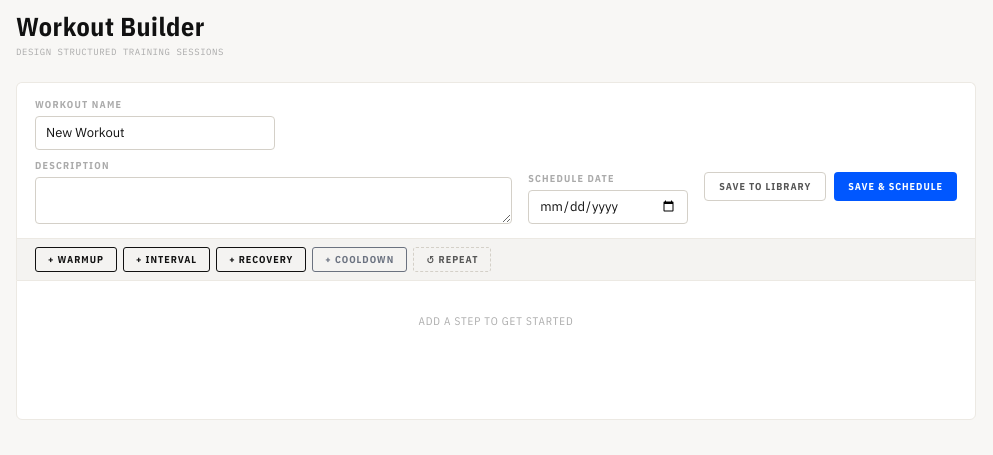
Test: test_delete_step › add warmup then delete → no steps
The image size is (993, 455).
Step 1. Click the button "+ Warmup" → (76,259), box [35,247,117,272]
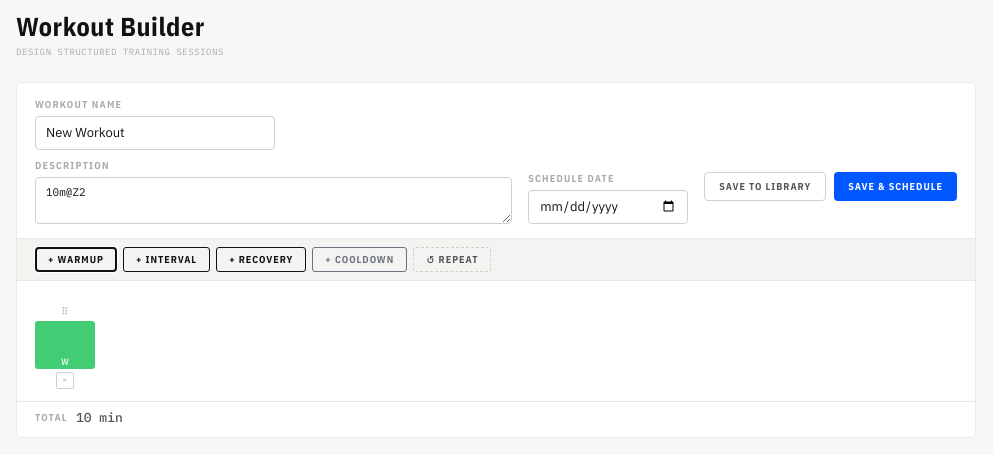
Step 2. Click the button named "delete step" → (65,380), box [56,372,74,389]
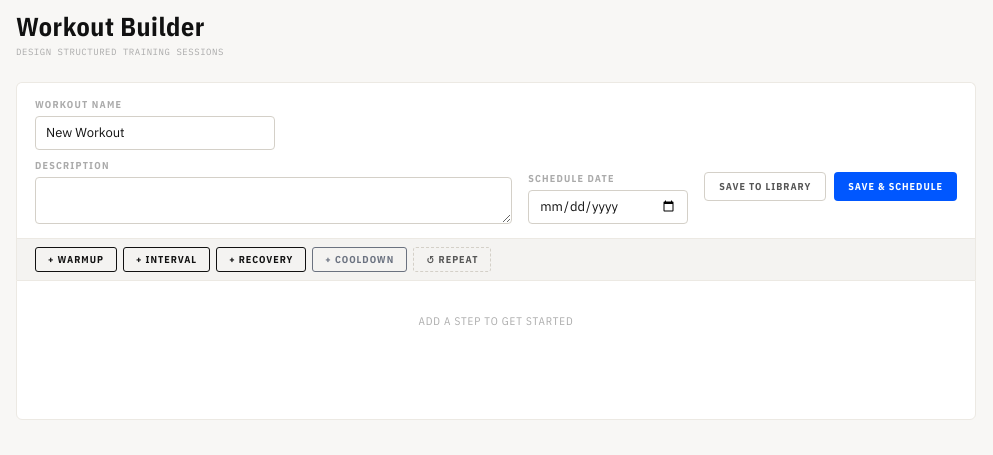
Now the element with test id "step-bar-0" is gone
Now the text "Add a step to get started" is shown, box [418,314,574,328]
